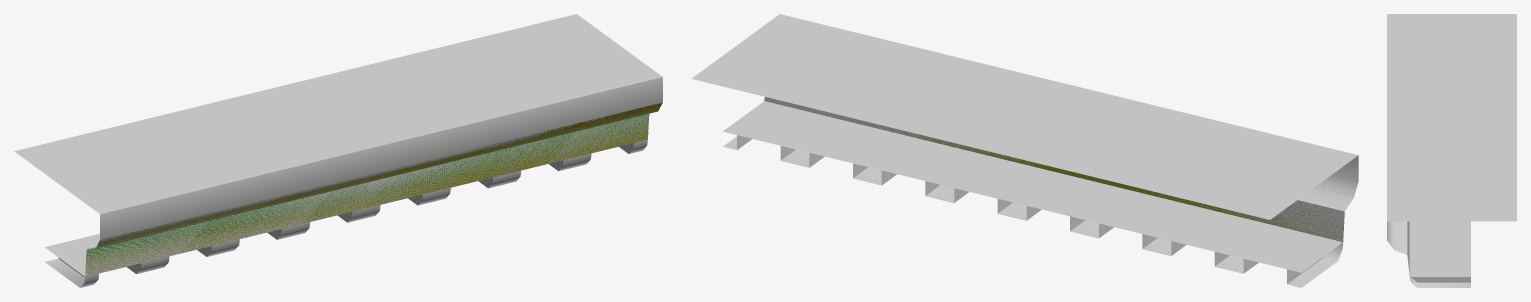
The model's file is SM_CorniceA4m.fbx.
3 renders of one model, left to right at view 1: azimuth 30°, elevation 25°; view 2: azimuth 150°, elevation 25°; view 3: azimuth 270°, elevation 25°, orthographic. The views are drawn at different scales.
Parts seen in each view (by area): view 1: SM_CorniceA4m; view 2: SM_CorniceA4m; view 3: SM_CorniceA4m.
Part boxes in pixels (x1,y1,x2,y2): SM_CorniceA4m: (14, 14, 662, 287); SM_CorniceA4m: (691, 14, 1358, 287); SM_CorniceA4m: (1387, 14, 1516, 287).
Bounding box in the file's own units: 400 × 60 × 106.
